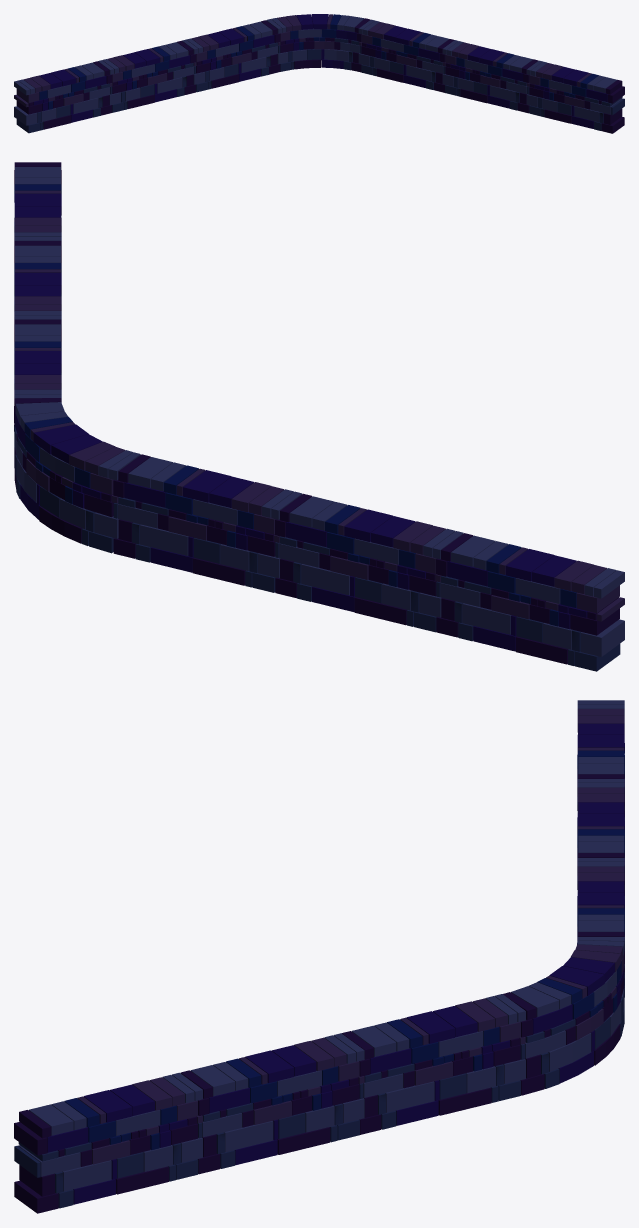
The model's file is WallBlue1.fbx.
The picture shows the model from 3 angles, top to bottom: view 1: azimuth 30°, elevation 25°; view 2: azimuth 150°, elevation 25°; view 3: azimuth 270°, elevation 25°; orthographic projection. The views are drawn at different scales.
Visible parts, largest first — view 1: WallBlue1; view 2: WallBlue1; view 3: WallBlue1.
Boxes of the visible parts, x1,y1,x2,y2 form: WallBlue1: [14, 14, 624, 133]; WallBlue1: [14, 162, 624, 671]; WallBlue1: [14, 700, 624, 1213].
Bounding box in the file's own units: 109 × 9.9 × 65.55.
1 material, 1 textured.
